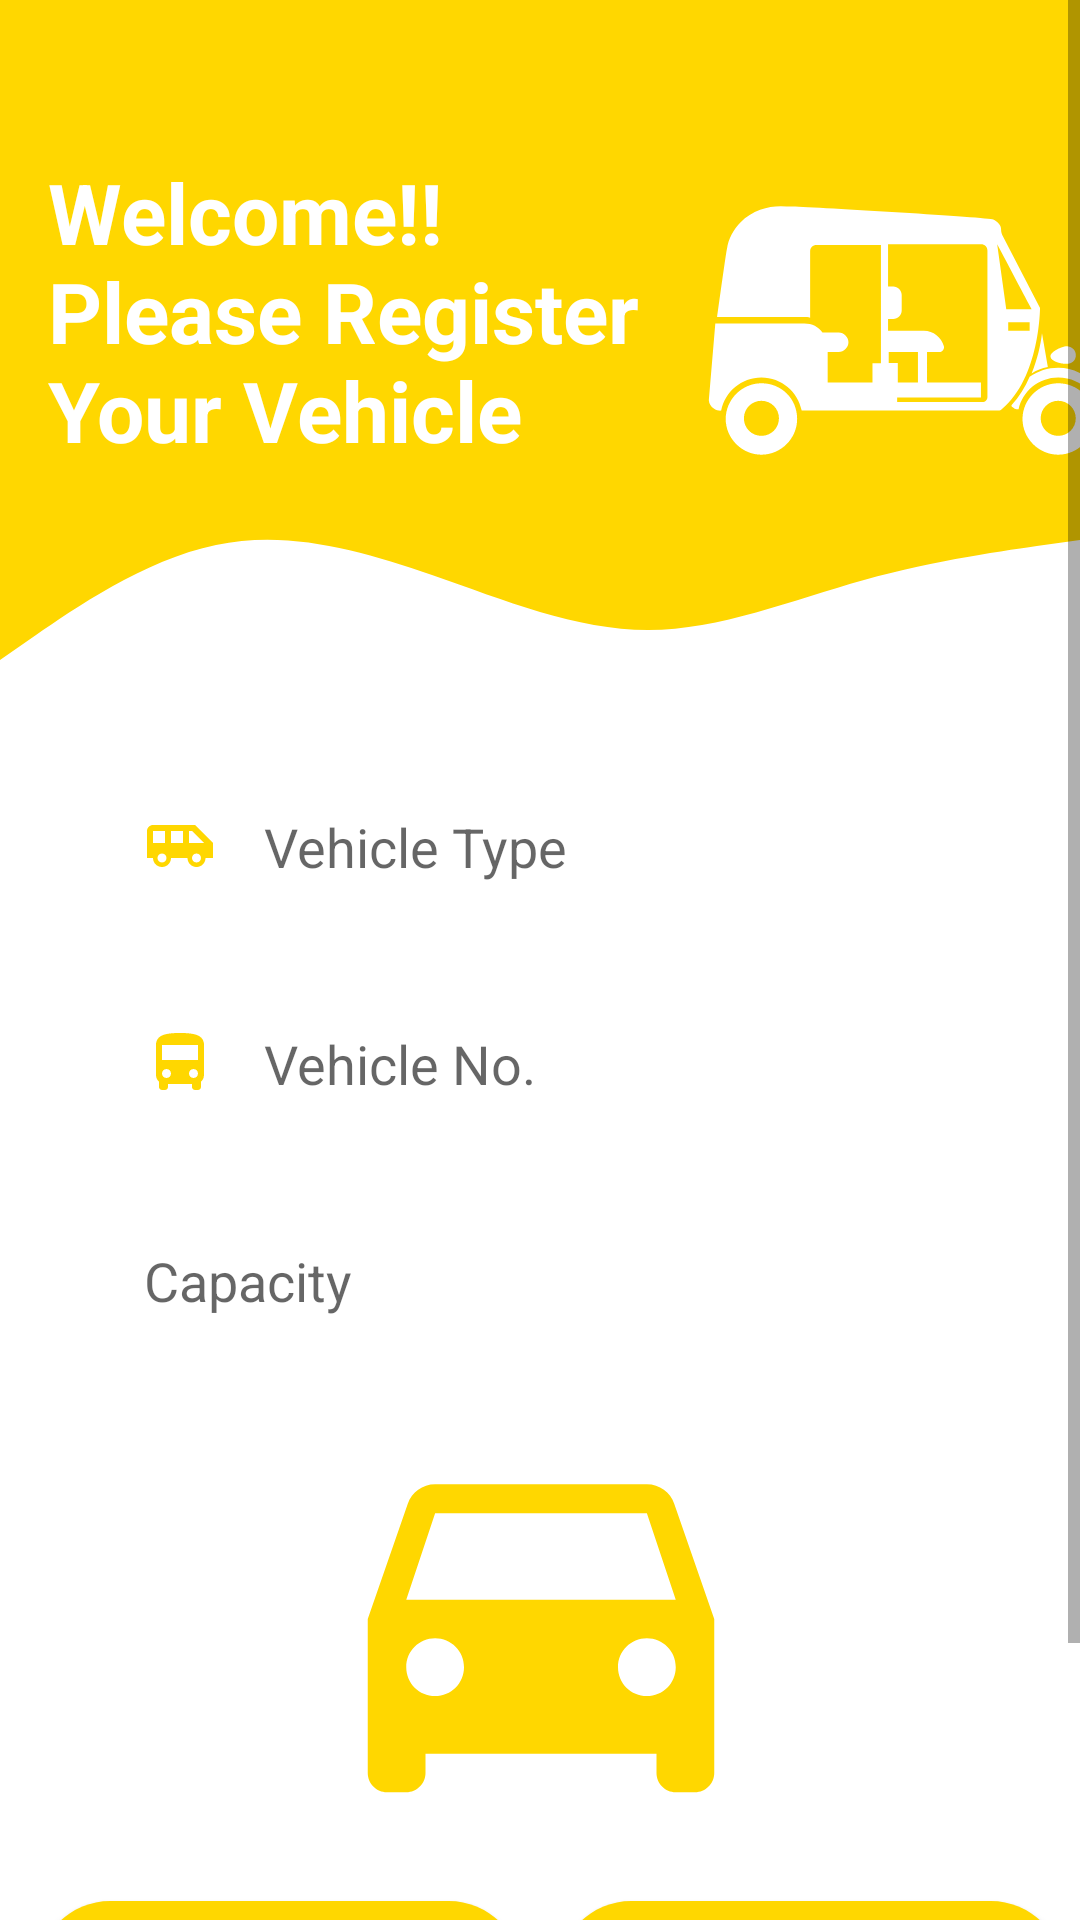

Locate icon controls on the screen. Image size 1080*1920, boxes as Rect(x1, y1, x2, y2).
directions car: Rect(367, 1484, 715, 1793)
